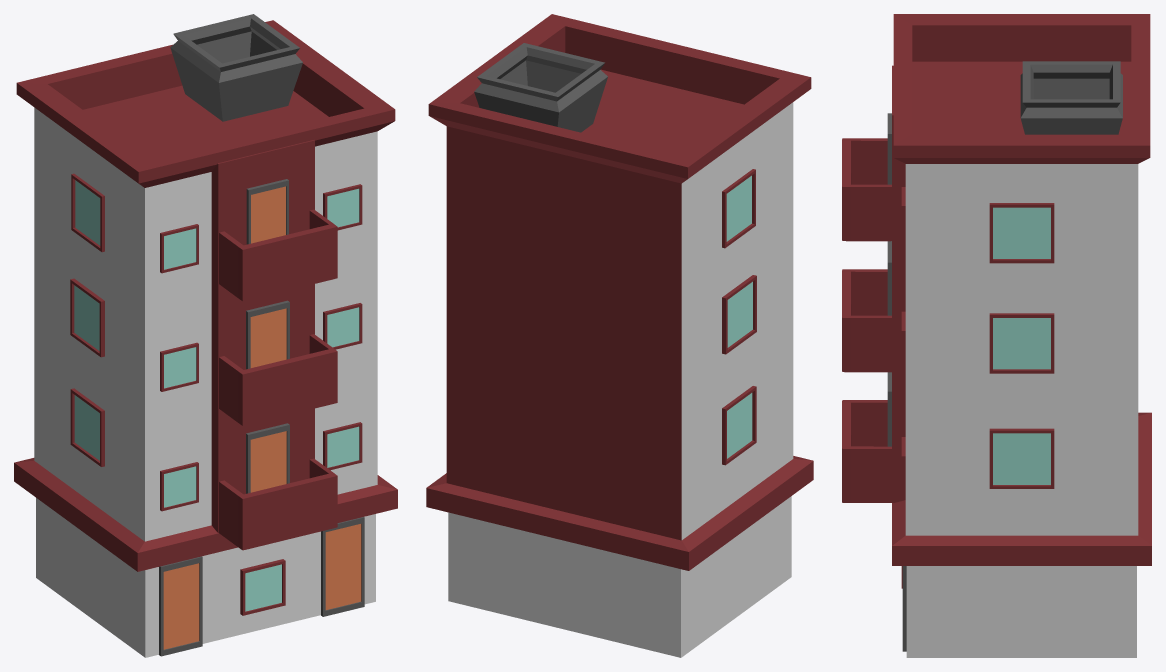
3 renders of one model, left to right at view 1: azimuth 30°, elevation 25°; view 2: azimuth 150°, elevation 25°; view 3: azimuth 270°, elevation 25°, orthographic. The views are drawn at different scales.
Parts seen in each view (by area): view 1: Plane.002; view 2: Plane.002; view 3: Plane.002.
Boxes of the visible parts, x1,y1,x2,y2 form: Plane.002: (14,14,397,657); Plane.002: (426,14,813,657); Plane.002: (842,14,1151,657).
Bounding box in the file's own units: 451 × 859 × 442.
